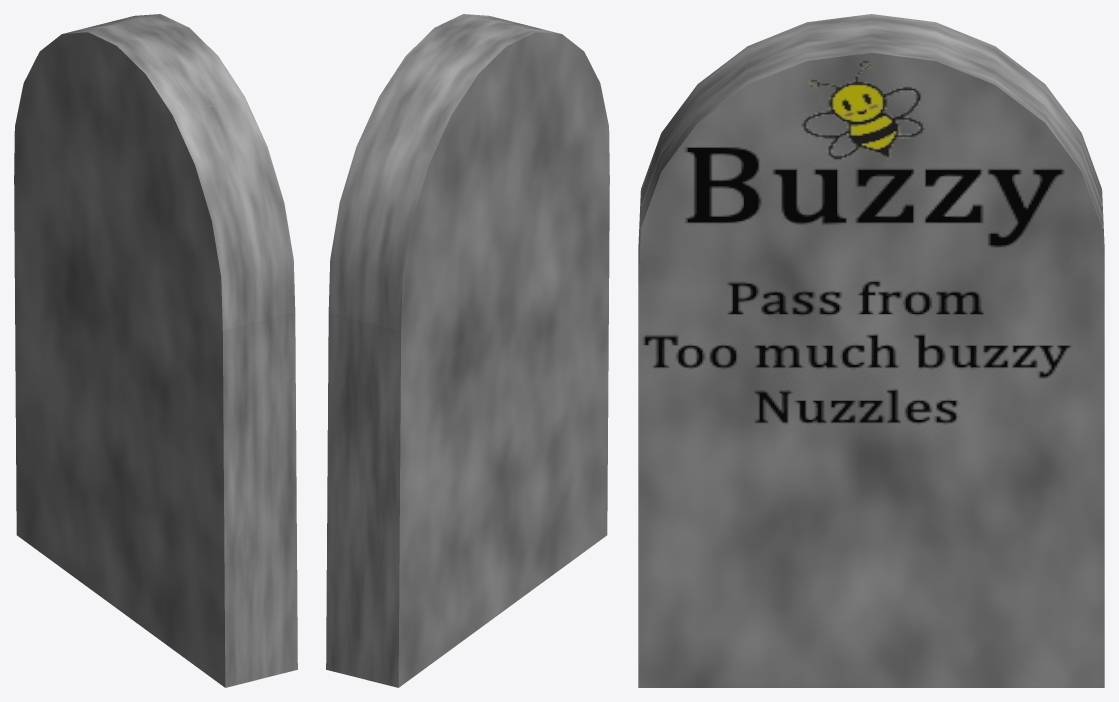
File: Gravestone.buzzy.dae
3 renders of one model, left to right at view 1: azimuth 30°, elevation 25°; view 2: azimuth 150°, elevation 25°; view 3: azimuth 270°, elevation 25°, orthographic. The views are drawn at different scales.
Parts seen in each view (by area): view 1: SketchUp; view 2: SketchUp; view 3: SketchUp.
Part boxes in pixels (x1,y1,x2,y2): SketchUp: [14, 14, 297, 687]; SketchUp: [326, 14, 609, 687]; SketchUp: [638, 14, 1104, 687].
Size of the model in its own units: 0.0341 by 0.161 by 0.2413.
Materials: 1 (1 with a texture image).
